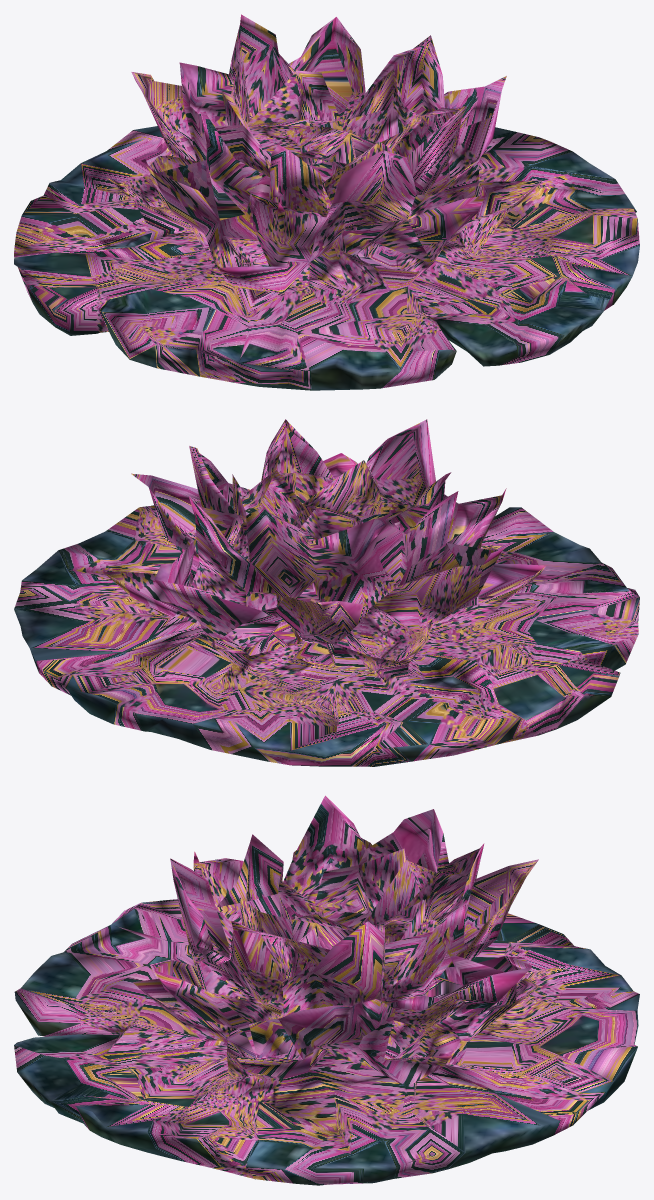
Rendered from lily-pad.glb.
3 renders of one model, top to bottom at view 1: azimuth 30°, elevation 25°; view 2: azimuth 150°, elevation 25°; view 3: azimuth 270°, elevation 25°, orthographic. The views are drawn at different scales.
Size of the model in its own units: 1.9 by 0.649 by 1.78.
1 material, 1 textured.
